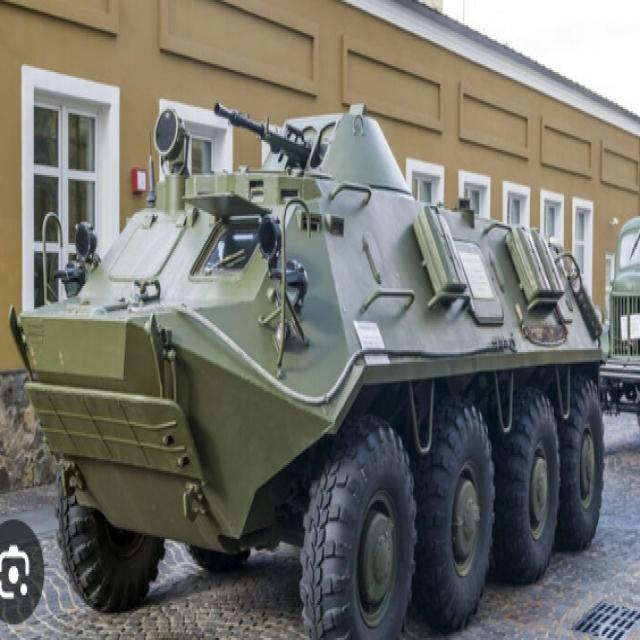MIL_APC: (41, 134, 626, 640)
